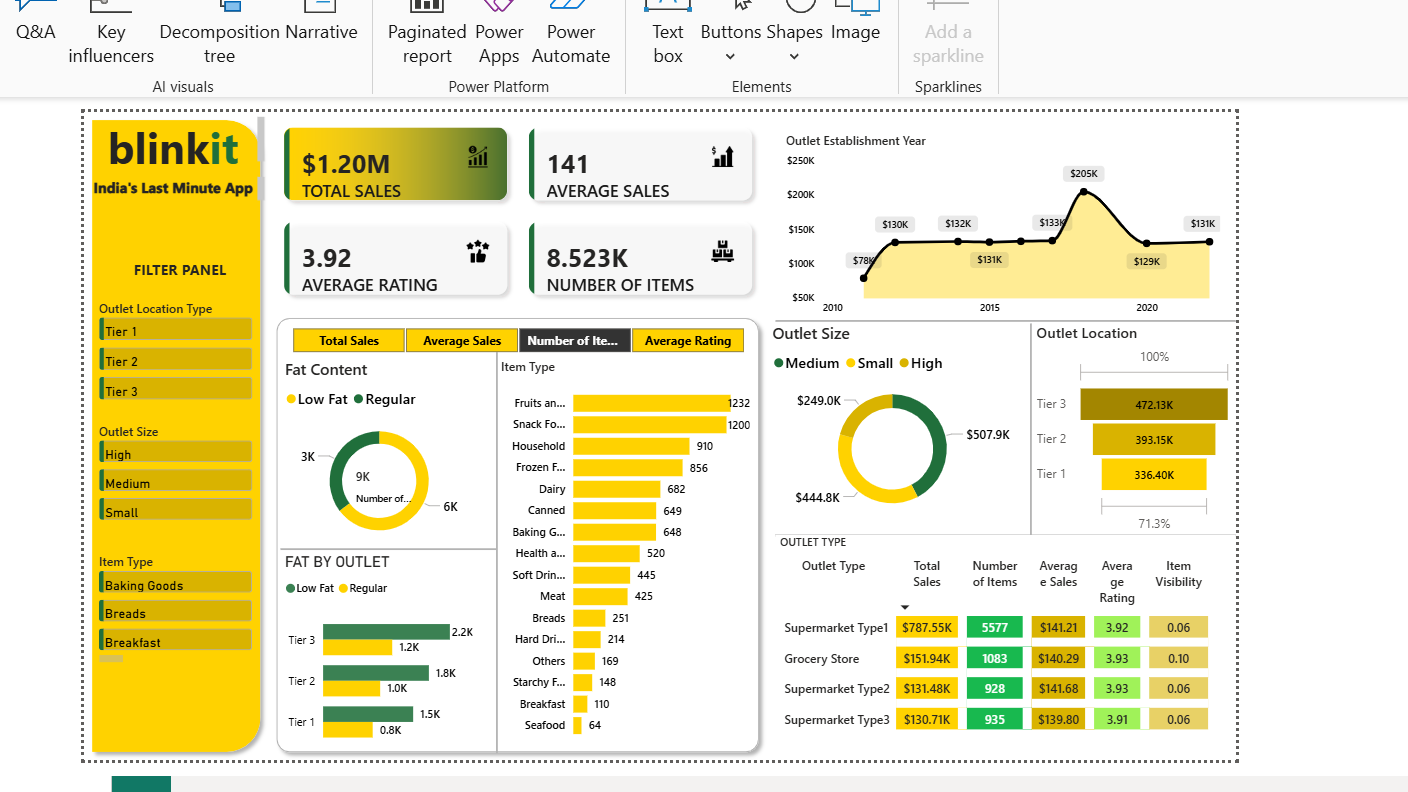

What the dashboard file says about the page in this screenshot:
{"tool":"powerbi","page":{"name":"Page 1","canvas":[1280,720],"ordinal":0},"visuals":[{"type":"shape","box":[0,0,205,720],"z":0},{"type":"textbox","box":[0,0,205.6,66.4],"z":1000},{"type":"textbox","box":[0,66.4,205.6,42.1],"z":2000},{"type":"cardVisual","fields":{"Data":["BlinkIT Grocery Data.Total Sales","BlinkIT Grocery Data.Average Sales","BlinkIT Grocery Data.Average Rating","BlinkIT Grocery Data.Number of Items"]},"box":[205.6,0,554,220],"z":3000},{"type":"shape","box":[205.6,220.2,553.8,500.3],"z":4000},{"type":"donutChart","title":"Fat Content","fields":{"Y":["BlinkIT Grocery Data.Number of Items"],"Category":["BlinkIT Grocery Data.Item Fat Content"]},"box":[218.6,273.6,218.6,217],"z":5000},{"type":"slicer","fields":{"Values":["Metrics .Metrics "]},"box":[207.3,233.2,550.5,40.5],"z":6000},{"type":"cardVisual","fields":{"Data":["BlinkIT Grocery Data.Number of Items"]},"box":[285,359.5,111.7,111.7],"z":7000},{"type":"clusteredBarChart","title":"FAT BY OUTLET","fields":{"Y":["BlinkIT Grocery Data.Number of Items"],"Category":["BlinkIT Grocery Data.Outlet Location Type"],"Series":["BlinkIT Grocery Data.Item Fat Content"]},"box":[218.6,490.6,218.6,229.9],"z":8000},{"type":"shape","box":[218.6,375.7,240,221.4],"z":9000},{"type":"shape","box":[421.4,267.1,74.3,445.7],"z":10000},{"type":"barChart","title":"Item Type","fields":{"Y":["BlinkIT Grocery Data.Number of Items"],"Category":["BlinkIT Grocery Data.Item Type"]},"box":[458.2,273.6,286.6,432.3],"z":11000},{"type":"lineChart","title":"Outlet Establishment Year","fields":{"Category":["BlinkIT Grocery Data.Outlet Establishment Year"],"Y":["BlinkIT Grocery Data.Total Sales"]},"box":[775.6,21,492.2,212.1],"z":12000},{"type":"donutChart","title":"Outlet Size","fields":{"Y":["BlinkIT Grocery Data.Total Sales"],"Category":["BlinkIT Grocery Data.Outlet Size"]},"box":[760,232.9,275.7,225.7],"z":13000},{"type":"funnel","title":"Outlet Location","fields":{"Y":["Sum(BlinkIT Grocery Data.Sales)"],"Category":["BlinkIT Grocery Data.Outlet Location Type"]},"box":[1052.9,232.9,227.1,238.6],"z":14000},{"type":"shape","box":[1015.7,234.3,74.3,237.1],"z":15000},{"type":"shape","box":[768.6,452.9,511.4,34.3],"z":16000},{"type":"shape","box":[768.6,215.7,511.4,34.3],"z":17000},{"type":"pivotTable","title":"OUTLET TYPE","fields":{"Rows":["BlinkIT Grocery Data.Outlet Type"],"Values":["BlinkIT Grocery Data.Total Sales","BlinkIT Grocery Data.Number of Items","BlinkIT Grocery Data.Average Sales","BlinkIT Grocery Data.Average Rating","Avg(BlinkIT Grocery Data.Item Visibility)"]},"box":[768.6,470,511.4,250],"z":18000},{"type":"advancedSlicerVisual","fields":{"Values":["BlinkIT Grocery Data.Outlet Location Type"]},"box":[11.7,208.3,180,116.7],"z":19000},{"type":"advancedSlicerVisual","fields":{"Values":["BlinkIT Grocery Data.Outlet Size"]},"box":[11.7,345,180,113.3],"z":20000},{"type":"advancedSlicerVisual","fields":{"Values":["BlinkIT Grocery Data.Item Type"]},"box":[11.7,490,180,128.3],"z":21000},{"type":"textbox","box":[11.7,158.3,178.3,31.7],"z":22000}]}

Visuals, with their boxes on the page's 1280x720 design canvas (x1, y1, x2, y2). These are canvas units, not pixel positions in the 1408x792 screenshot, which may show the page scaled, cropped or inside an application window:
shape: (0,0,205,720)
textbox: (0,0,206,66)
textbox: (0,66,206,108)
cardVisual - BlinkIT Grocery Data.Total Sales x BlinkIT Grocery Data.Average Sales: (206,0,760,220)
shape: (206,220,759,720)
"Fat Content" donutChart: (219,274,437,491)
slicer - Metrics .Metrics : (207,233,758,274)
cardVisual - BlinkIT Grocery Data.Number of Items: (285,360,397,471)
"FAT BY OUTLET" clusteredBarChart: (219,491,437,720)
shape: (219,376,459,597)
shape: (421,267,496,713)
"Item Type" barChart: (458,274,745,706)
"Outlet Establishment Year" lineChart: (776,21,1268,233)
"Outlet Size" donutChart: (760,233,1036,459)
"Outlet Location" funnel: (1053,233,1280,472)
shape: (1016,234,1090,471)
shape: (769,453,1280,487)
shape: (769,216,1280,250)
"OUTLET TYPE" pivotTable: (769,470,1280,720)
advancedSlicerVisual - BlinkIT Grocery Data.Outlet Location Type: (12,208,192,325)
advancedSlicerVisual - BlinkIT Grocery Data.Outlet Size: (12,345,192,458)
advancedSlicerVisual - BlinkIT Grocery Data.Item Type: (12,490,192,618)
textbox: (12,158,190,190)
